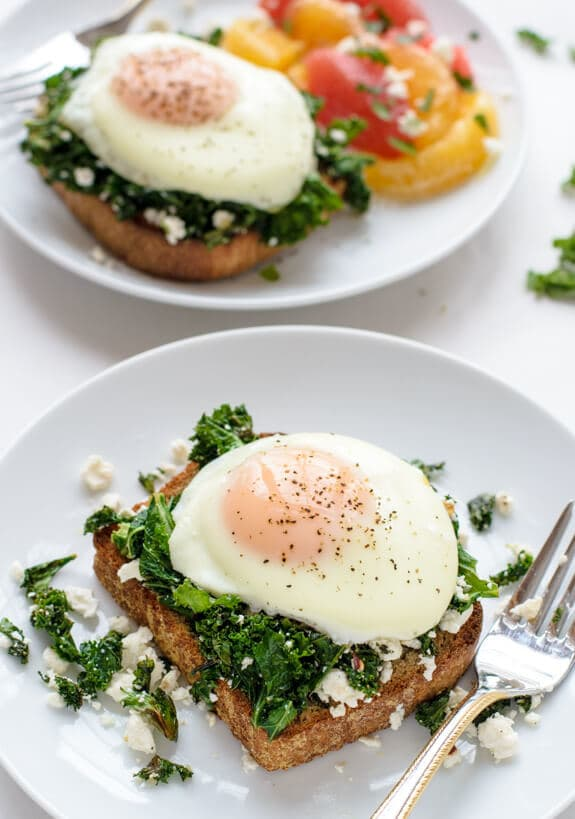fried egg: (194, 451, 454, 626), (94, 37, 299, 191)
slice of bread: (120, 622, 493, 751), (50, 207, 270, 278)
